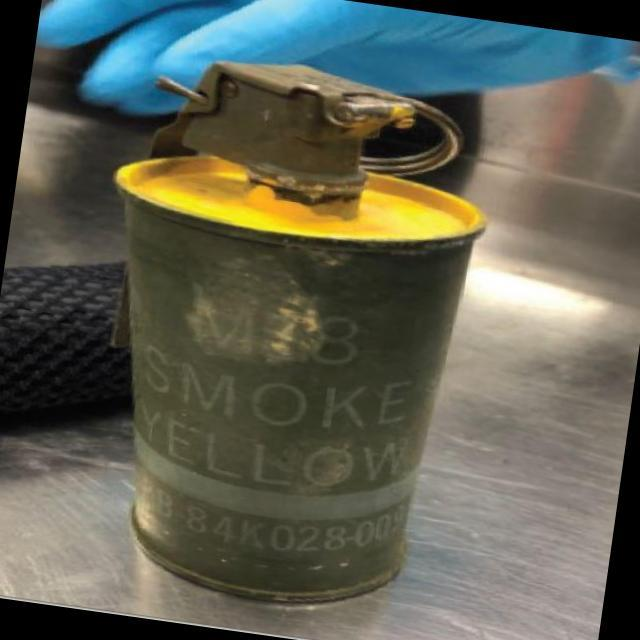grenade: (22, 42, 521, 638)
